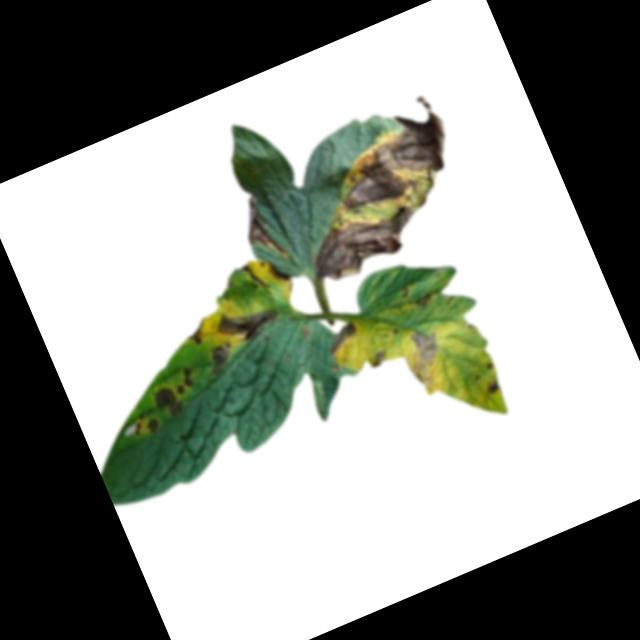Early_blight: (305, 91, 463, 219), (298, 182, 444, 291), (211, 291, 284, 350), (233, 191, 286, 266), (395, 323, 450, 388), (319, 318, 363, 357), (147, 381, 186, 423), (200, 337, 239, 377), (126, 407, 161, 441), (178, 316, 212, 351), (263, 256, 294, 289), (169, 364, 198, 396), (409, 289, 436, 314), (478, 375, 503, 401), (365, 347, 389, 368)
